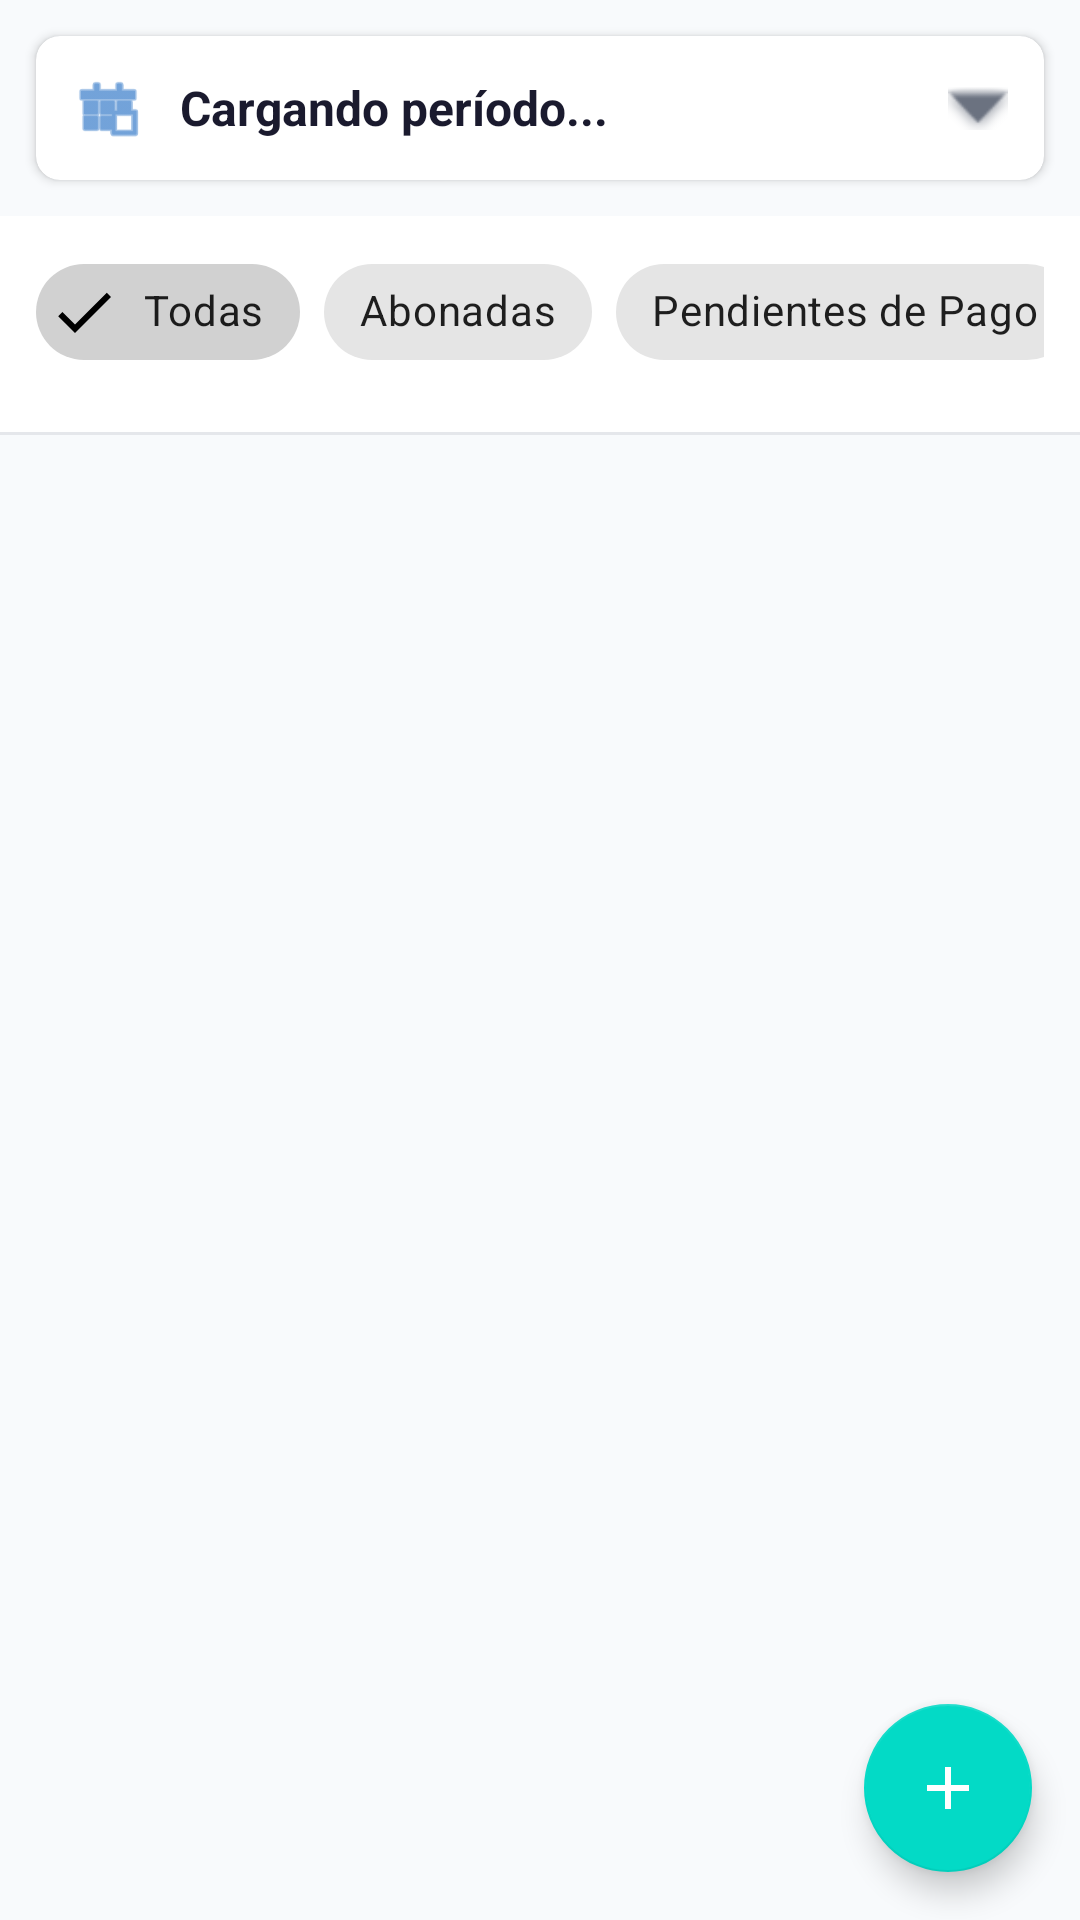

Icon click points for this 1080x1920 phone screenshot, format (x=x, y=y):
arrow down float: (x=978, y=107)
Nueva factura: (x=948, y=1788)
today: (x=108, y=109)
